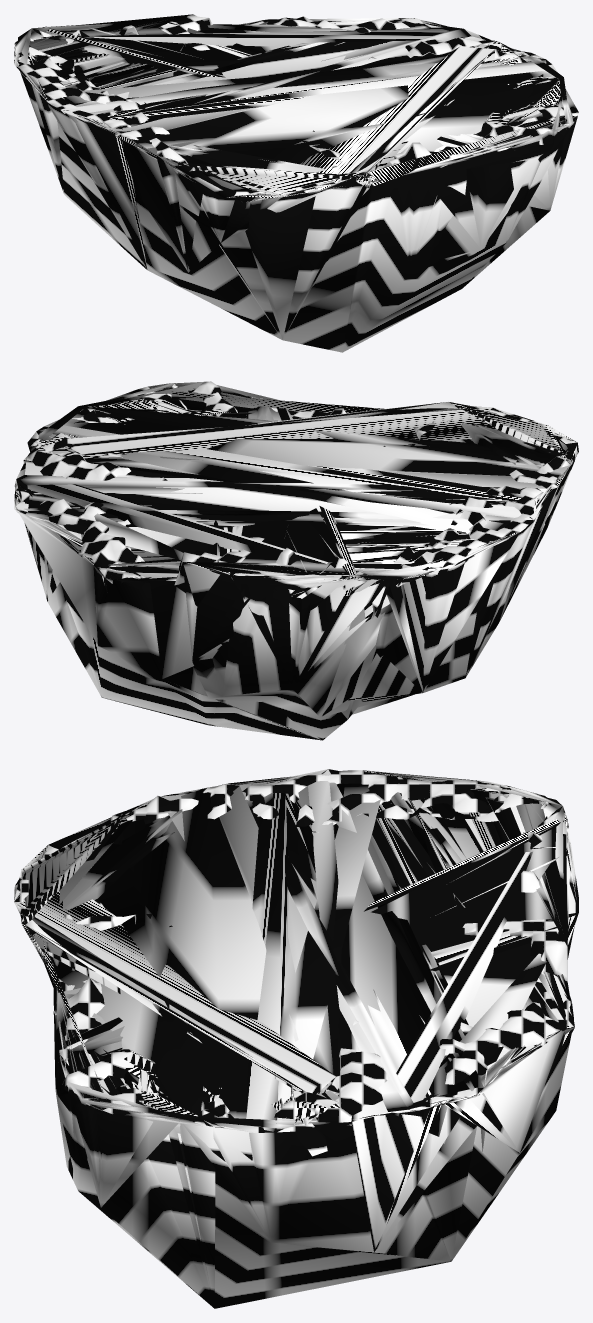
Rendered from ingm4.dae.
3 views of the same model, one above another, from view 1: azimuth 30°, elevation 25°; view 2: azimuth 150°, elevation 25°; view 3: azimuth 270°, elevation 25° (orthographic). The views are drawn at different scales.
Visible parts, largest first — view 1: down; view 2: down; view 3: down.
Part boxes in pixels (bbox=[...]): down: bbox=[14, 14, 578, 352]; down: bbox=[14, 381, 578, 740]; down: bbox=[14, 769, 578, 1308].
Size of the model in its own units: 6.05 by 4.82 by 3.04.
1 material, 1 textured.
